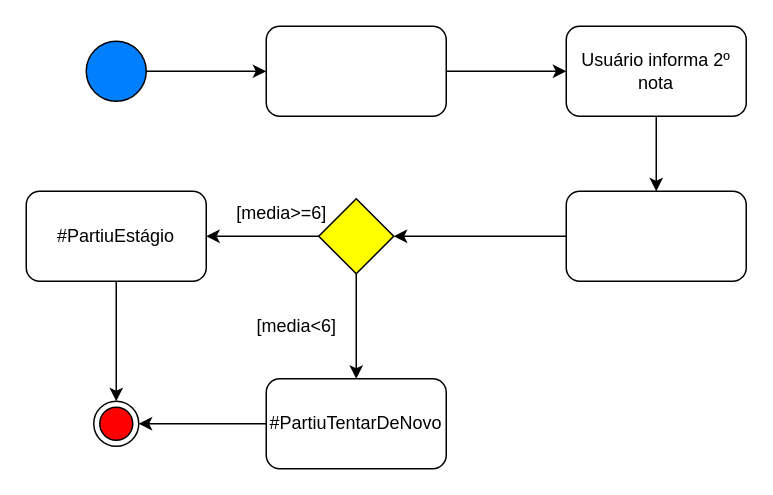
Image size: 773x495. Some labels were removed from this diagram. The shapes that lost their labels are listed below. From the top down, each one's centre as x and y in pixels, then its label:
[355,70]: Usuário informa 1º nota
[655,235]: Calcular a média enter elas
